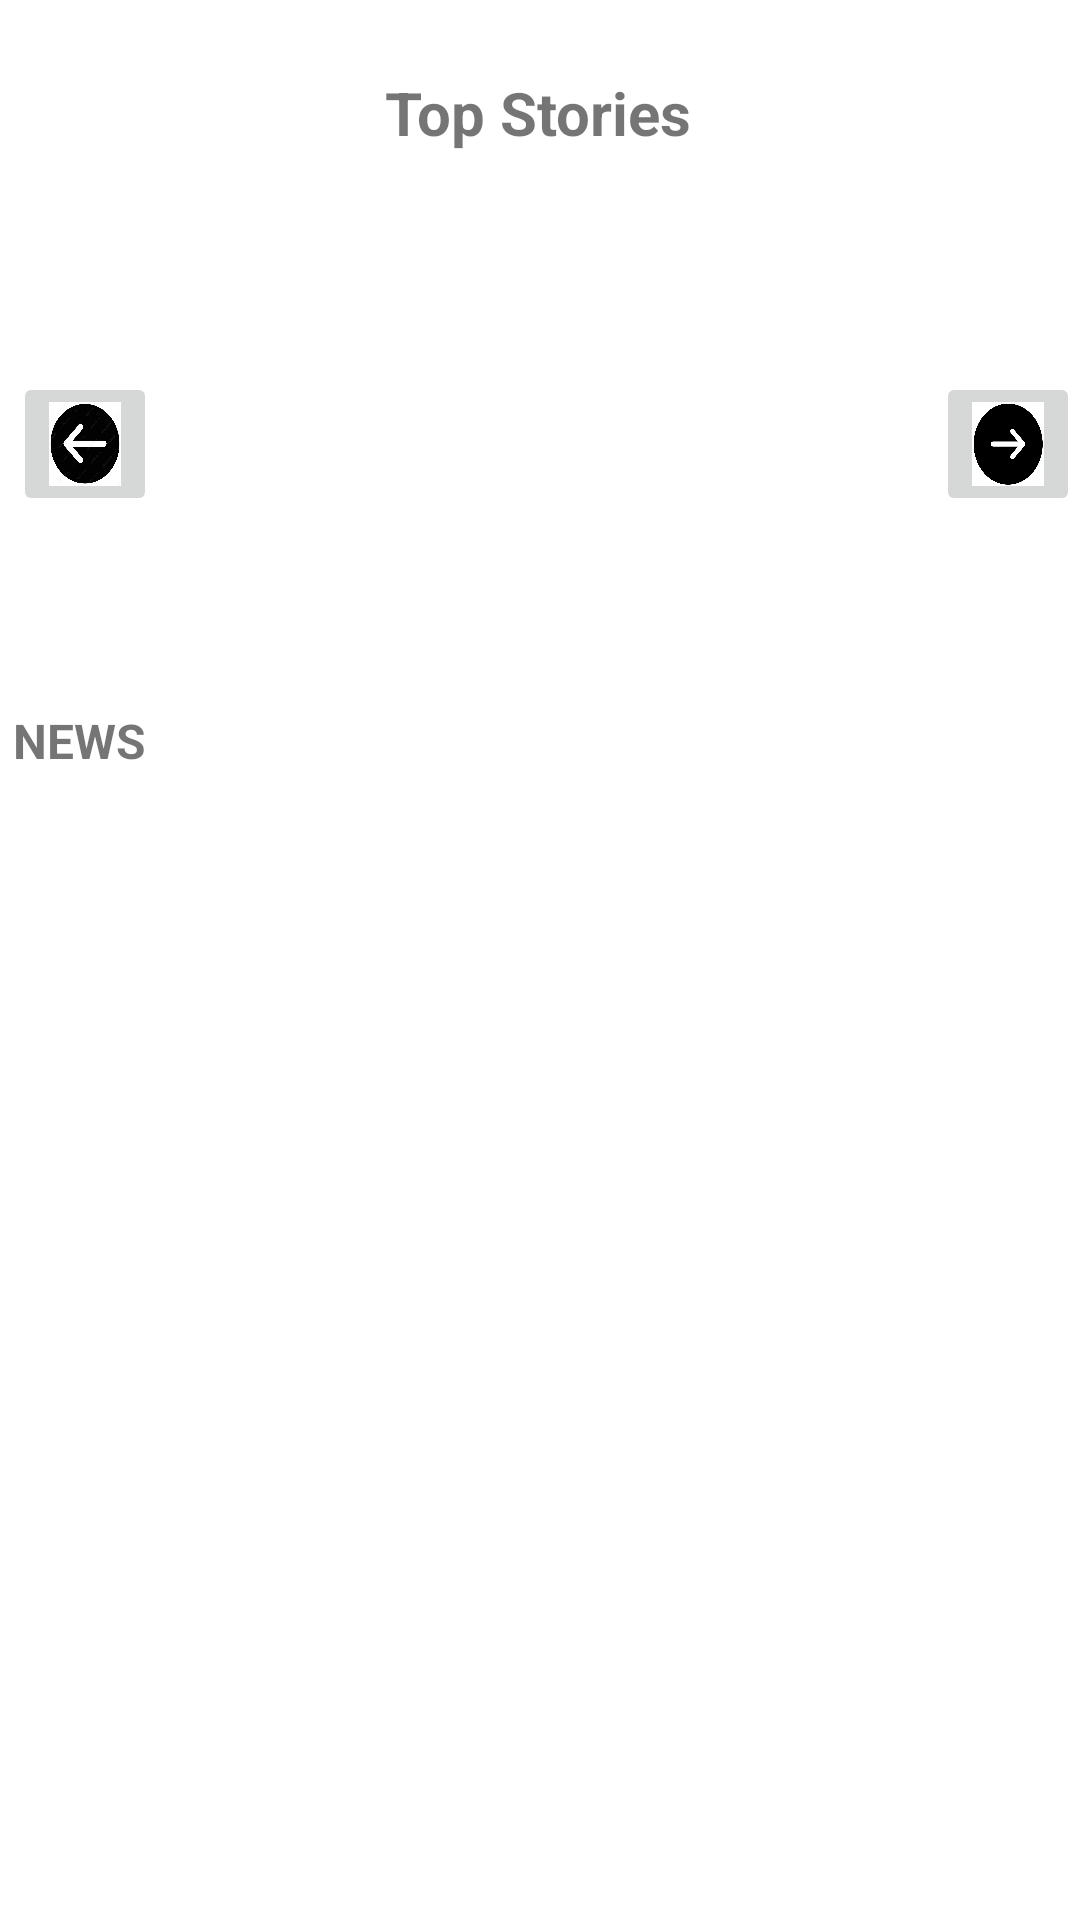

Icon click points for this 1080 x 1920 phone screenshot, format (x,y):
leftarrow: (85,444)
rightarrow: (1008,444)
